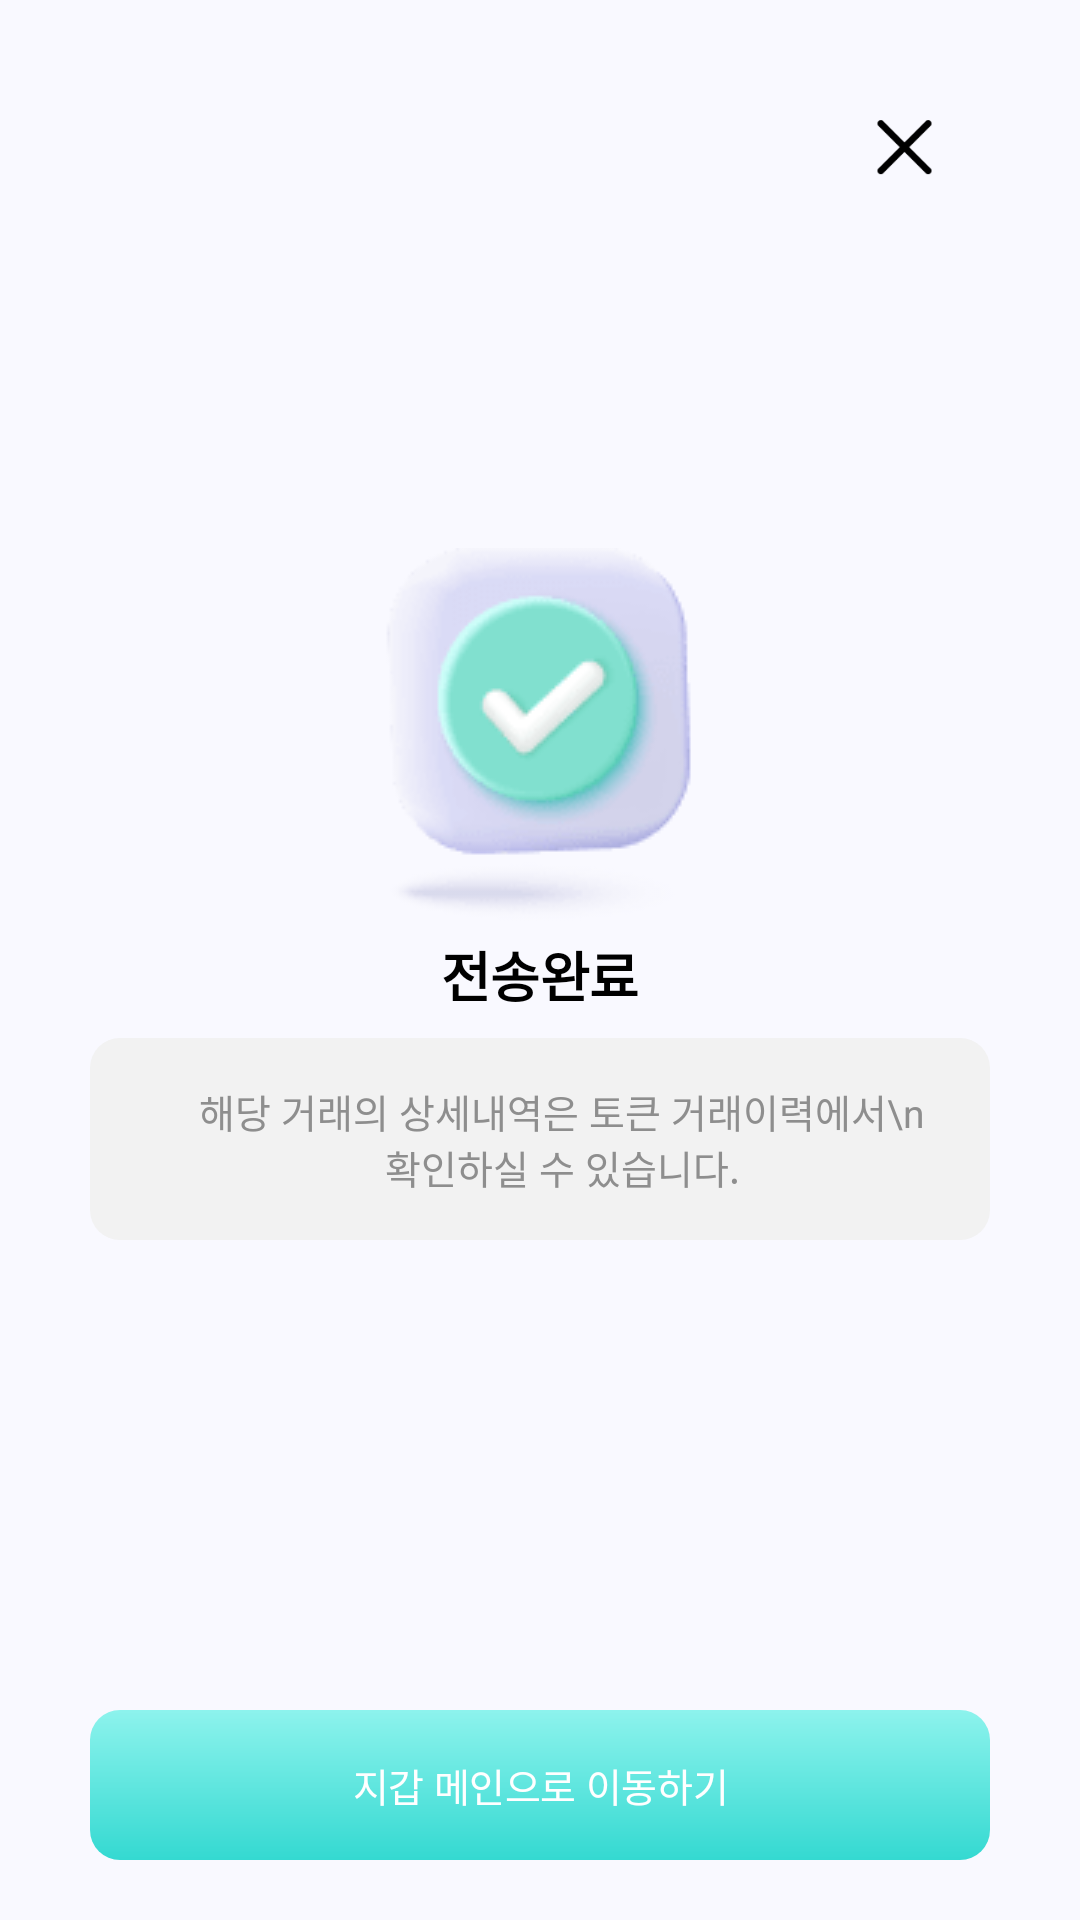

Point at icon controls on the screen. Image size 1080w x 1920h, points as [x,y].
check: [551,733]
multiply: [904,147]
